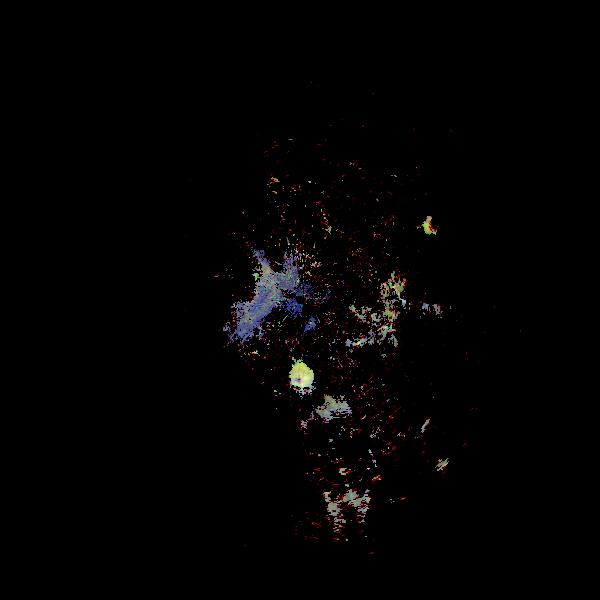roost: (267, 345, 327, 405), (408, 200, 459, 251)
